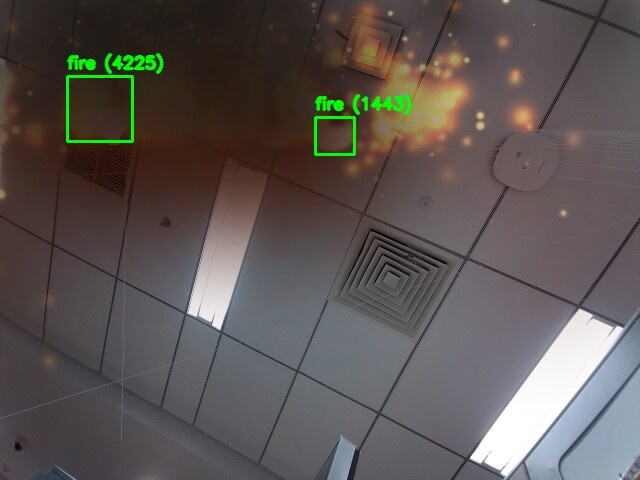fire: (67, 76, 132, 141), (315, 117, 354, 154)
